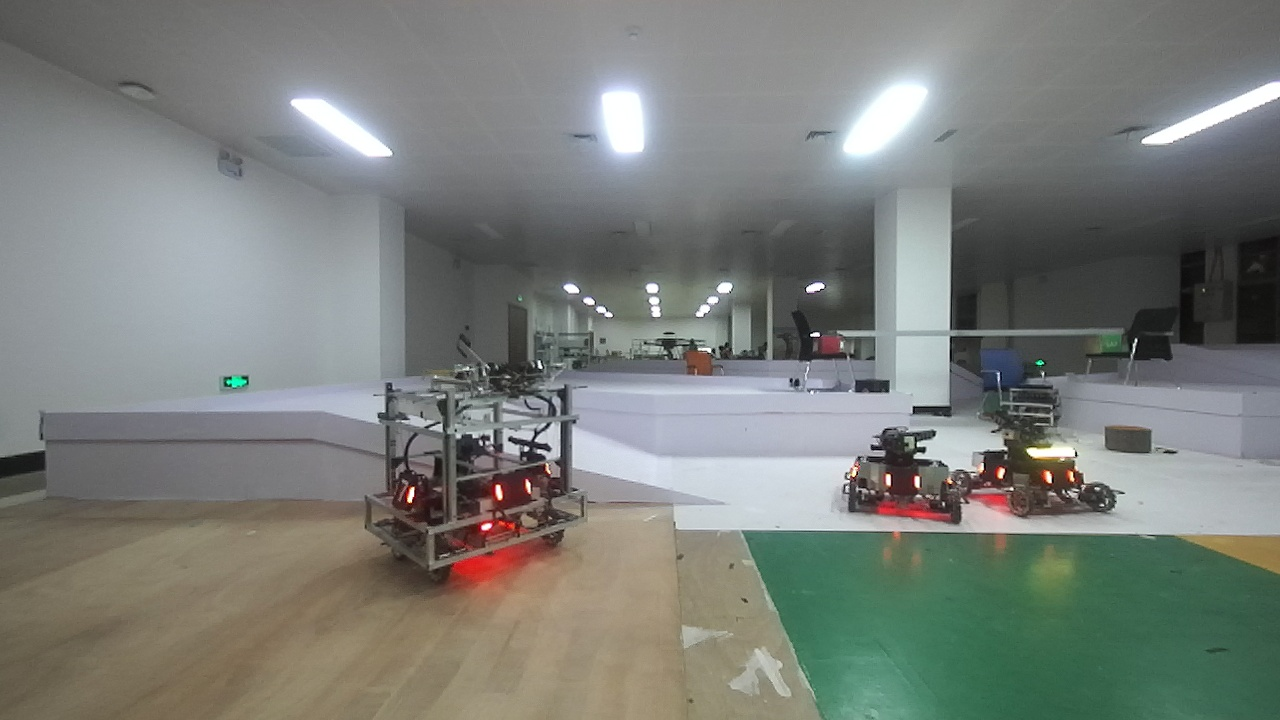car: (358, 359, 602, 594), (973, 406, 1132, 533), (838, 411, 974, 542)
